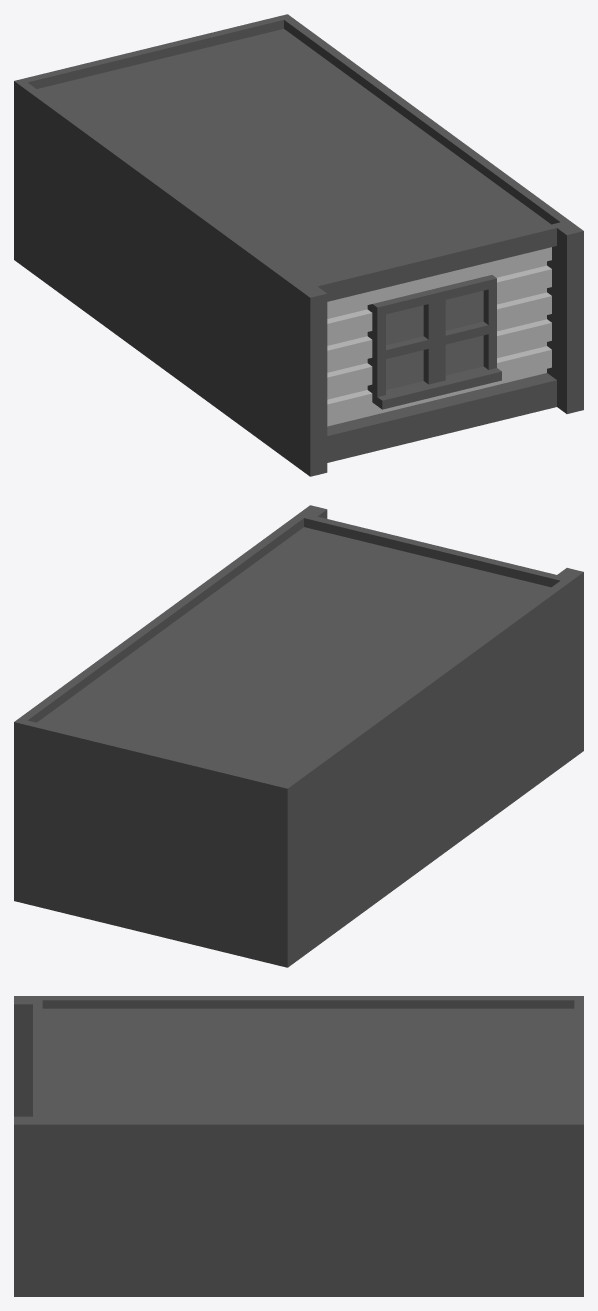
Rendered from bld_story03d.obj.
3 views of the same model, one above another, from view 1: azimuth 30°, elevation 25°; view 2: azimuth 150°, elevation 25°; view 3: azimuth 270°, elevation 25° (orthographic). The views are drawn at different scales.
Size of the model in its own units: 32 by 20 by 60.
